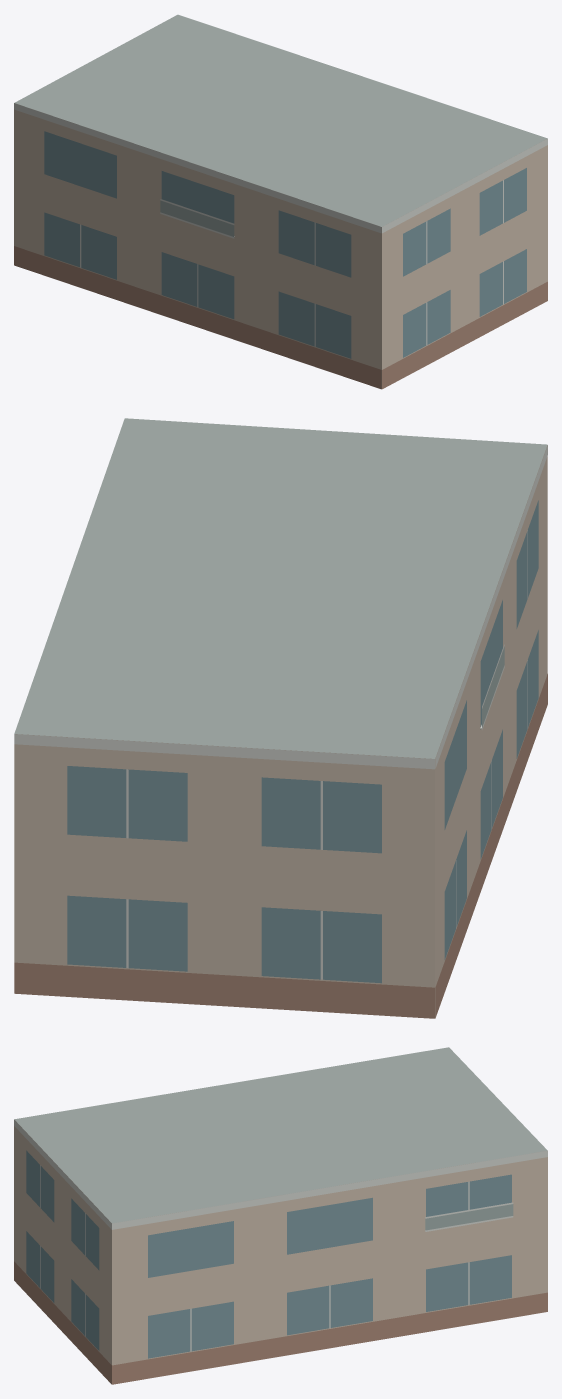
Rendered from survey-upis-32513299.glb.
The picture shows the model from 3 angles, top to bottom: view 1: azimuth 30°, elevation 25°; view 2: azimuth 150°, elevation 25°; view 3: azimuth 270°, elevation 25°; orthographic projection. The views are drawn at different scales.
Visible parts, largest first — view 1: survey-upis-32513299.tmp; view 2: survey-upis-32513299.tmp; view 3: survey-upis-32513299.tmp.
Part boxes in pixels (box(x1,y1,x2,y2)): survey-upis-32513299.tmp: box(14, 14, 547, 389); survey-upis-32513299.tmp: box(14, 418, 547, 1018); survey-upis-32513299.tmp: box(14, 1047, 547, 1384).
Size of the model in its own units: 14.32 by 6.1 by 18.31.
